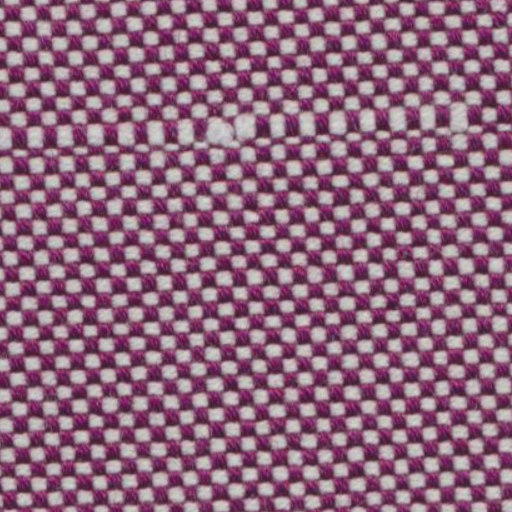DaiSha: (12, 96, 488, 162)
